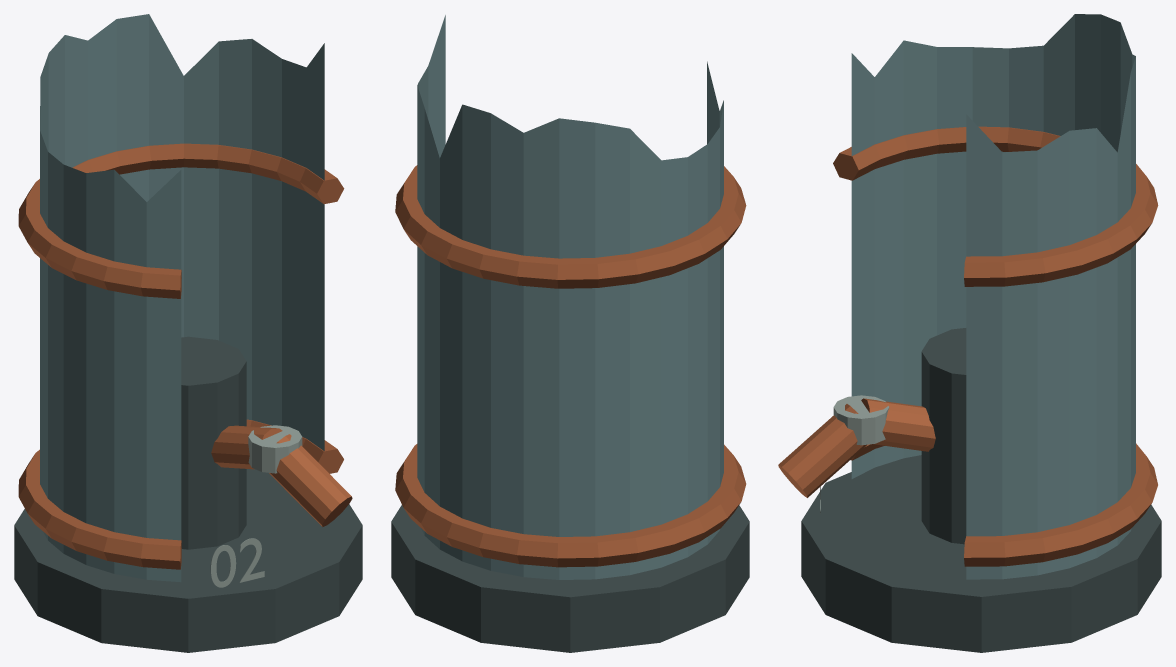
File: Tank_Ruptured.glb
3 renders of one model, left to right at view 1: azimuth 30°, elevation 25°; view 2: azimuth 150°, elevation 25°; view 3: azimuth 270°, elevation 25°, orthographic. The views are drawn at different scales.
Visible parts, largest first — view 1: Tank_Ruptured; view 2: Tank_Ruptured; view 3: Tank_Ruptured.
Boxes of the visible parts, x1,y1,x2,y2 form: Tank_Ruptured: (14,14,362,652); Tank_Ruptured: (391,15,749,652); Tank_Ruptured: (778,14,1161,652).
Bounding box in the file's own units: 2.1 × 3.39 × 2.24.
